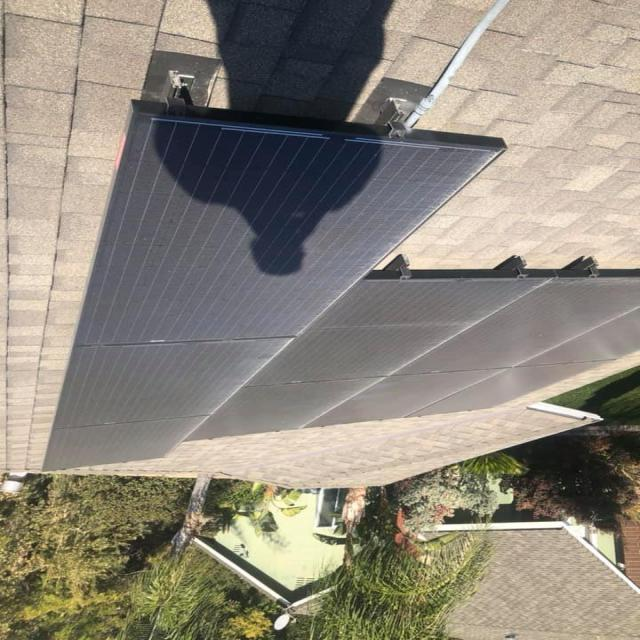Photovoltaic-Panel: (41, 114, 640, 472)
